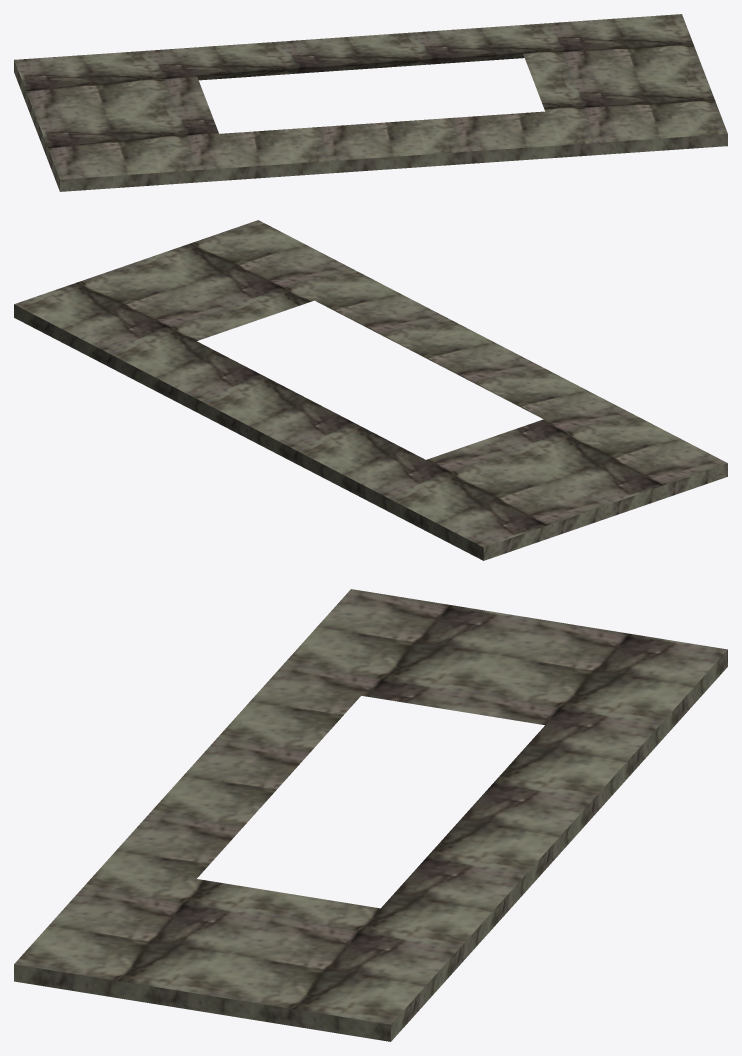
File: H1_F2_Floor.gltf
3 renders of one model, top to bottom at view 1: azimuth 30°, elevation 25°; view 2: azimuth 150°, elevation 25°; view 3: azimuth 270°, elevation 25°, orthographic. The views are drawn at different scales.
Visible parts, largest first — view 1: H1_F2_Floor; view 2: H1_F2_Floor; view 3: H1_F2_Floor.
Part boxes in pixels (bbox=[...]): H1_F2_Floor: bbox=[14, 14, 727, 191]; H1_F2_Floor: bbox=[14, 220, 727, 560]; H1_F2_Floor: bbox=[14, 589, 727, 1041].
Bounding box in the file's own units: 100 × 2.37 × 69.58.
Materials: 1 (1 with a texture image).
